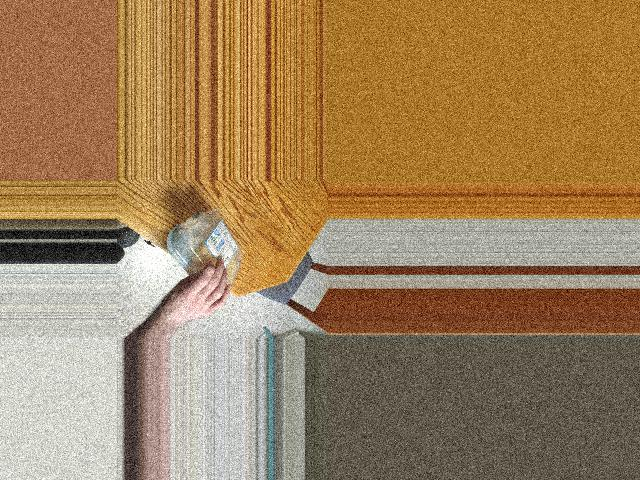cheese: (171, 208, 243, 303)
